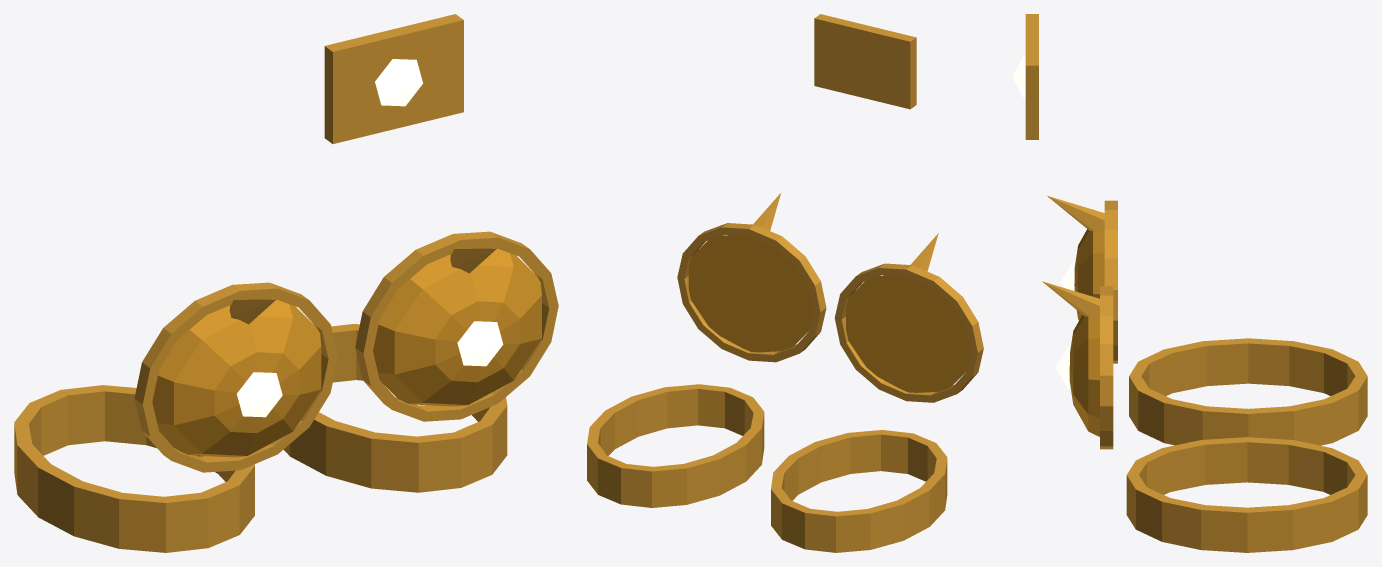
Rendered from armor_guard_legs_legendary_orc.glb.
3 renders of one model, left to right at view 1: azimuth 30°, elevation 25°; view 2: azimuth 150°, elevation 25°; view 3: azimuth 270°, elevation 25°, orthographic. The views are drawn at different scales.
Parts seen in each view (by area): view 1: armor_guard_legs_legendary_orc__calf_r, armor_guard_legs_legendary_orc__calf_l, armor_guard_legs_legendary_orc__pelvis; view 2: armor_guard_legs_legendary_orc__calf_l, armor_guard_legs_legendary_orc__calf_r, armor_guard_legs_legendary_orc__pelvis; view 3: armor_guard_legs_legendary_orc__calf_l, armor_guard_legs_legendary_orc__calf_r, armor_guard_legs_legendary_orc__pelvis.
Part boxes in pixels (x1,y1,x2,y2): armor_guard_legs_legendary_orc__calf_r: [14, 282, 337, 552]; armor_guard_legs_legendary_orc__calf_l: [283, 231, 558, 492]; armor_guard_legs_legendary_orc__pelvis: [324, 14, 463, 143]; armor_guard_legs_legendary_orc__calf_l: [587, 192, 826, 507]; armor_guard_legs_legendary_orc__calf_r: [771, 233, 983, 552]; armor_guard_legs_legendary_orc__pelvis: [814, 14, 916, 109]; armor_guard_legs_legendary_orc__calf_l: [1042, 281, 1367, 552]; armor_guard_legs_legendary_orc__calf_r: [1047, 196, 1367, 445]; armor_guard_legs_legendary_orc__pelvis: [1012, 14, 1038, 139].
Bounding box in the file's own units: 37.24 × 42.4 × 32.06.
